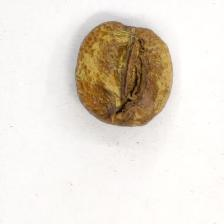NG: (79, 20, 170, 126)
